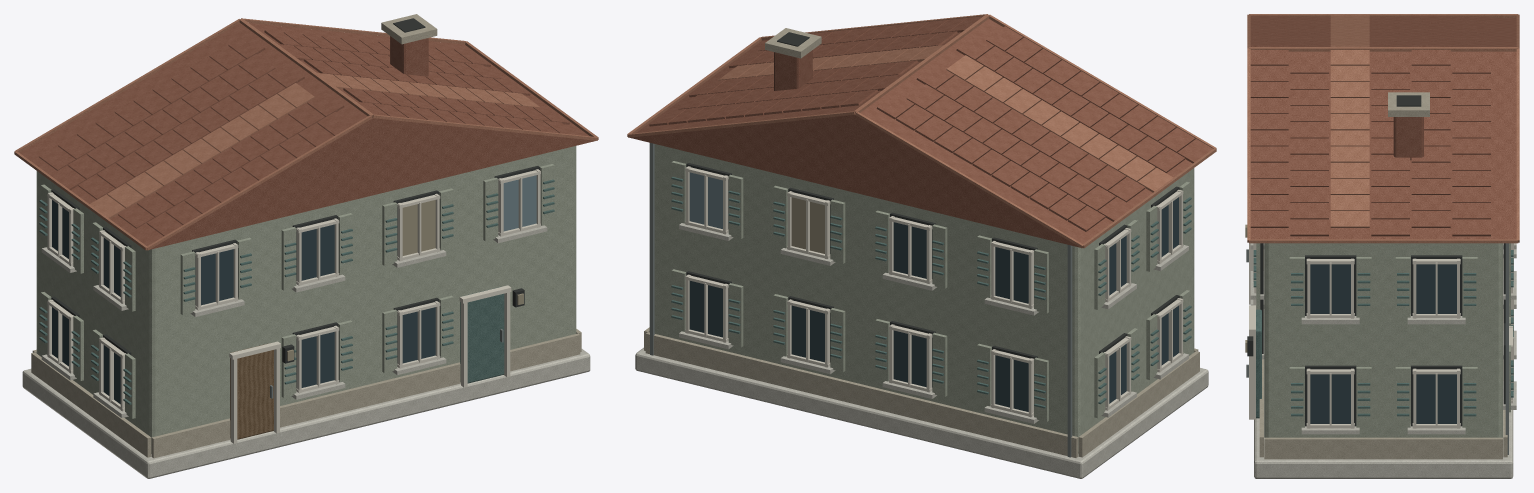
The model's file is RES_LOW_2x1_007.glb.
The picture shows the model from 3 angles, left to right: view 1: azimuth 30°, elevation 25°; view 2: azimuth 150°, elevation 25°; view 3: azimuth 270°, elevation 25°; orthographic projection. The views are drawn at different scales.
Parts seen in each view (by area): view 1: RES_LOW_2x1_007_Visual; view 2: RES_LOW_2x1_007_Visual; view 3: RES_LOW_2x1_007_Visual.
Boxes of the visible parts, x1,y1,x2,y2 form: RES_LOW_2x1_007_Visual: (14,14,598,478); RES_LOW_2x1_007_Visual: (627,14,1216,478); RES_LOW_2x1_007_Visual: (1245,14,1519,478).
Size of what is drawn, in the model's own units: 3.18 by 2.13 by 1.63.
13 materials, 7 textured.
